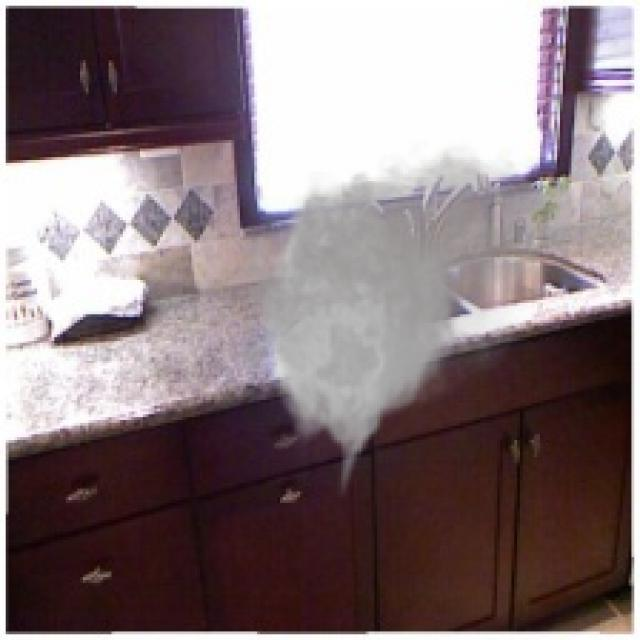Smoke: (217, 134, 589, 500)
